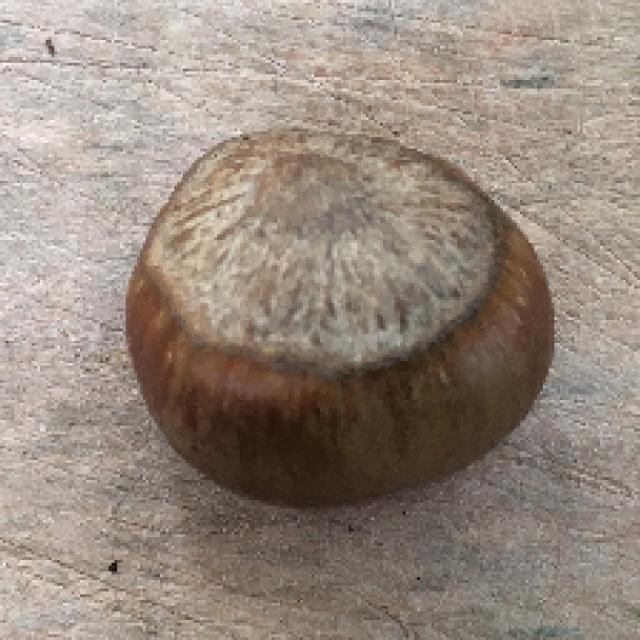damagedHazelnut: (121, 115, 561, 508)
